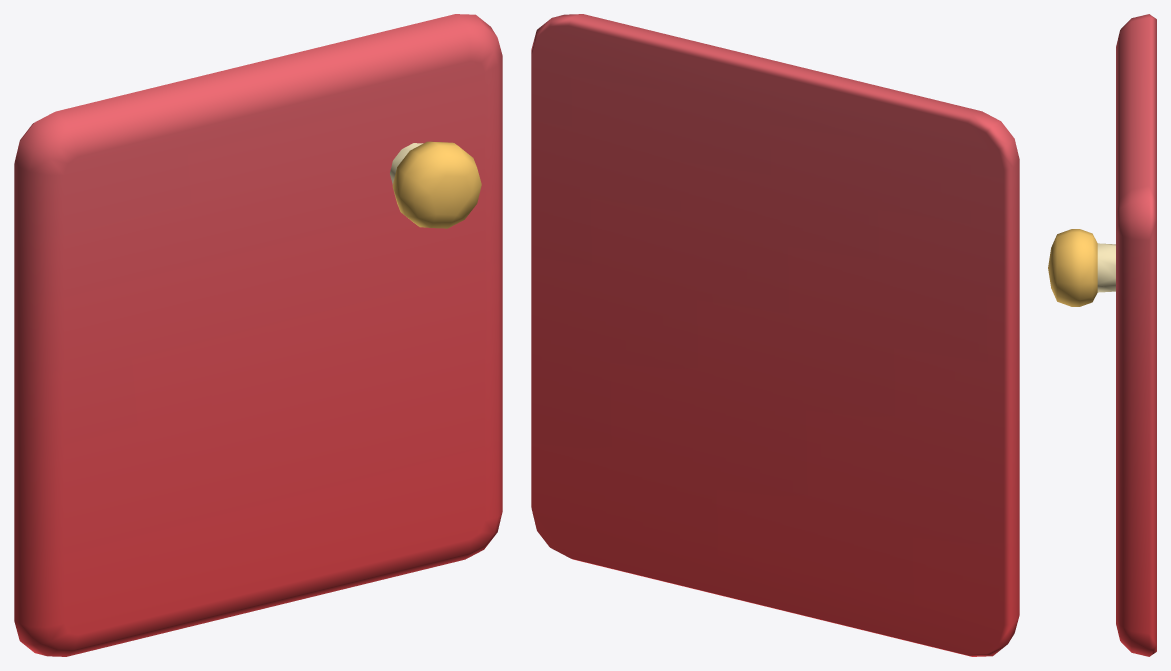
Rendered from Kitchen_Cabinet_001_door_001.fbx.
3 renders of one model, left to right at view 1: azimuth 30°, elevation 25°; view 2: azimuth 150°, elevation 25°; view 3: azimuth 270°, elevation 25°, orthographic. The views are drawn at different scales.
Visible parts, largest first — view 1: Kitchen_Cabinet_001_door_001; view 2: Kitchen_Cabinet_001_door_001; view 3: Kitchen_Cabinet_001_door_001.
Part boxes in pixels (x1,y1,x2,y2): Kitchen_Cabinet_001_door_001: [14, 14, 502, 656]; Kitchen_Cabinet_001_door_001: [531, 14, 1019, 656]; Kitchen_Cabinet_001_door_001: [1048, 14, 1156, 656].
Bounding box in the file's own units: 49.95 × 11.34 × 53.67.
